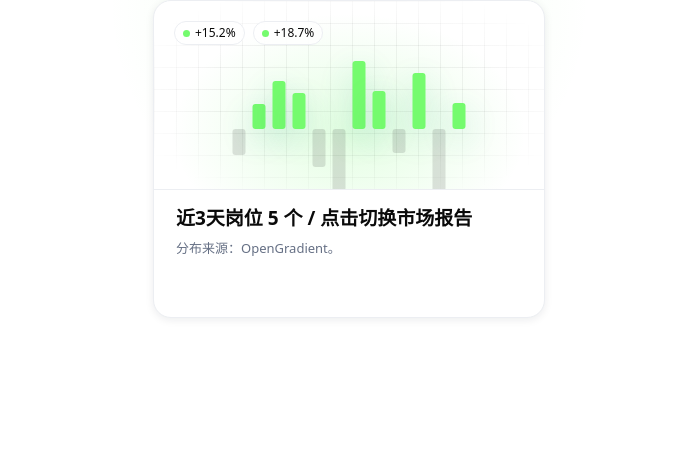
Test: IntelligencePanel › reveals the living report after clicking the chart
This screenshot has width=700, height=474.
Check: the heading "近3天岗位 5 个 / 点击切换市场报告" is shown, box [176, 207, 522, 229]
Step 1. Click the element named "打开猎场控制台" → (349, 159), box [153, 0, 545, 318]
(page scrolled)
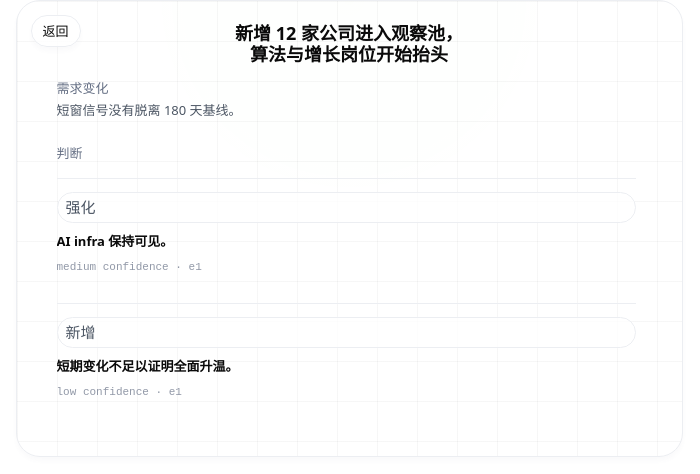
Check: the text "AI infra 保持可见。" is shown, box [56, 232, 173, 250]
